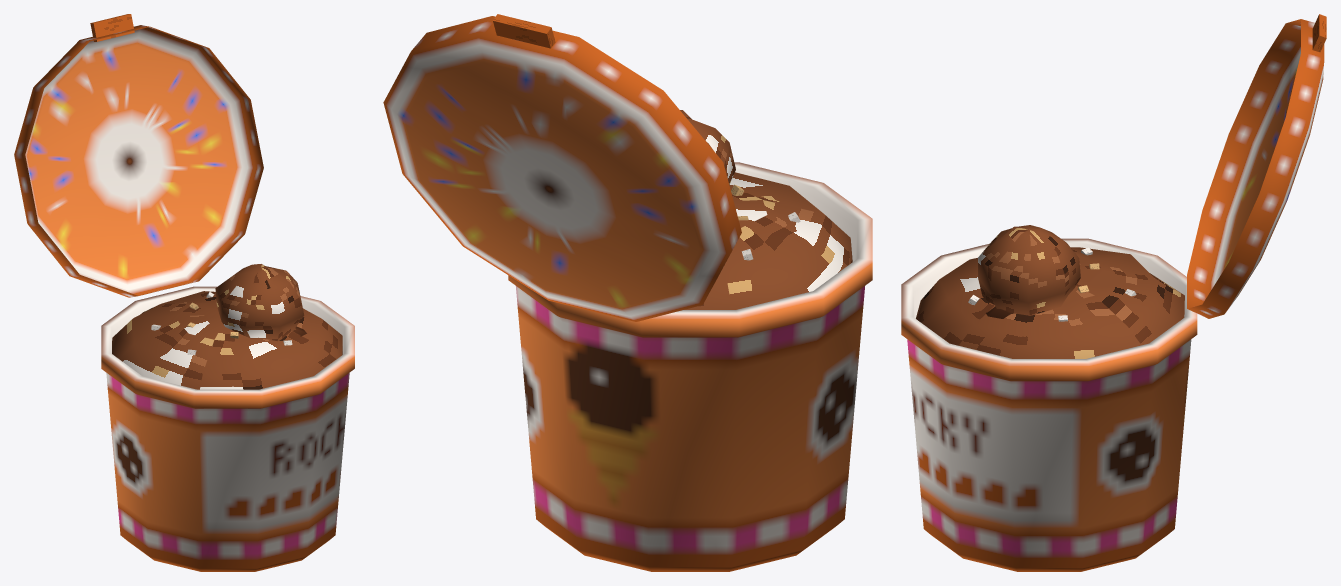
The model's file is Flavor Tub Rocky Road.fbx.
3 renders of one model, left to right at view 1: azimuth 30°, elevation 25°; view 2: azimuth 150°, elevation 25°; view 3: azimuth 270°, elevation 25°, orthographic. The views are drawn at different scales.
Parts seen in each view (by area): view 1: Flavor Tub Rocky Road lid, Flavor Tub Rocky Road tub, Flavor Tub Rocky Road ice cream, Flavor Tub Rocky Road swirl, Flavor Tub Rocky Road lid tab; view 2: Flavor Tub Rocky Road tub, Flavor Tub Rocky Road lid, Flavor Tub Rocky Road ice cream, Flavor Tub Rocky Road lid tab, Flavor Tub Rocky Road swirl; view 3: Flavor Tub Rocky Road tub, Flavor Tub Rocky Road lid, Flavor Tub Rocky Road ice cream, Flavor Tub Rocky Road swirl.
Boxes of the visible parts, x1=… form: Flavor Tub Rocky Road lid: x1=14, y1=25, x2=263, y2=297; Flavor Tub Rocky Road tub: x1=101, y1=286, x2=354, y2=571; Flavor Tub Rocky Road ice cream: x1=112, y1=291, x2=342, y2=389; Flavor Tub Rocky Road swirl: x1=215, y1=264, x2=306, y2=341; Flavor Tub Rocky Road lid tab: x1=90, y1=14, x2=134, y2=41; Flavor Tub Rocky Road tub: x1=508, y1=162, x2=872, y2=571; Flavor Tub Rocky Road lid: x1=383, y1=16, x2=741, y2=321; Flavor Tub Rocky Road ice cream: x1=684, y1=172, x2=852, y2=309; Flavor Tub Rocky Road lid tab: x1=493, y1=14, x2=555, y2=48; Flavor Tub Rocky Road swirl: x1=680, y1=110, x2=735, y2=184; Flavor Tub Rocky Road tub: x1=901, y1=238, x2=1197, y2=571; Flavor Tub Rocky Road lid: x1=1187, y1=19, x2=1324, y2=318; Flavor Tub Rocky Road ice cream: x1=916, y1=247, x2=1184, y2=358; Flavor Tub Rocky Road swirl: x1=978, y1=225, x2=1080, y2=318.
Size of the model in its own units: 0.3033 by 0.5406 by 0.4191.
